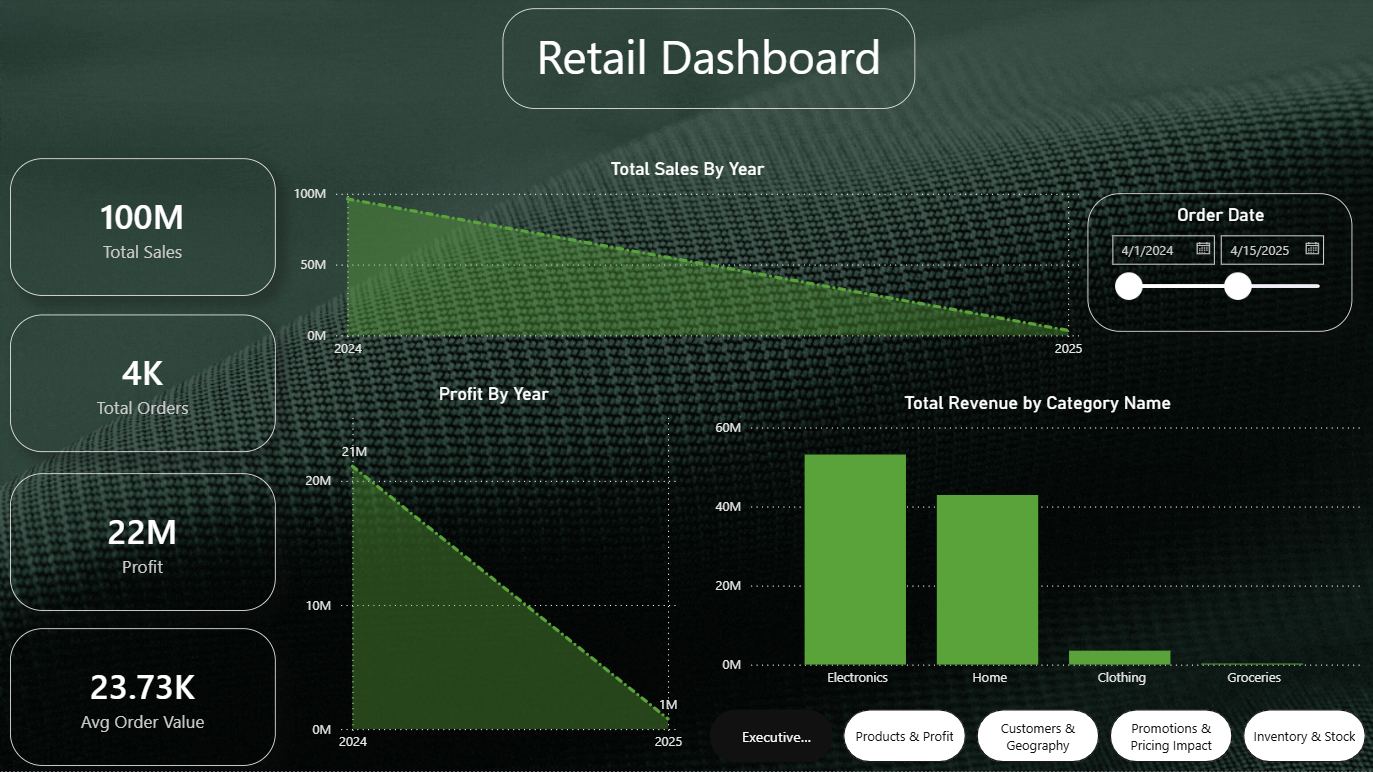

Layout of this report page (visuals, bound fields, positions):
{"tool":"powerbi","page":{"name":"Executive Overview","canvas":[1280,720],"ordinal":0},"visuals":[{"type":"cardVisual","fields":{"Data":["Measure Table.Total Sales"]},"box":[9.2,150,247,128.3],"z":0},{"type":"cardVisual","fields":{"Data":["Measure Table.Total Orders"]},"box":[9.2,295.8,247,128.3],"z":1000},{"type":"cardVisual","fields":{"Data":["Measure Table.Profit"]},"box":[9.2,442.5,247,128.3],"z":2000},{"type":"cardVisual","fields":{"Data":["Measure Table.Avg Order Value"]},"box":[9.2,587.5,247,128],"z":3000},{"type":"lineChart","title":"Total Sales By Year","fields":{"Category":["Orders.order_date.Variation.Date Hierarchy.Year","Orders.order_date.Variation.Date Hierarchy.Quarter","Orders.order_date.Variation.Date Hierarchy.Month","Orders.order_date.Variation.Date Hierarchy.Day"],"Y":["Measure Table.Total Sales"]},"box":[267.4,150.1,744.4,194.9],"z":4000},{"type":"lineChart","title":"Profit By Year","fields":{"Category":["Orders.order_date.Variation.Date Hierarchy.Year","Orders.order_date.Variation.Date Hierarchy.Quarter","Orders.order_date.Variation.Date Hierarchy.Month","Orders.order_date.Variation.Date Hierarchy.Day"],"Y":["Measure Table.Profit"]},"box":[279.5,359.7,360.5,351.9],"z":5000},{"type":"clusteredColumnChart","title":"Total Revenue by Category Name","fields":{"Category":["Categories.category_name"],"Y":["Measure Table.Total Revenue"]},"box":[660.7,367.4,609.8,283.8],"z":6000},{"type":"slicer","title":"Order Date","fields":{"Values":["Orders.order_date"]},"box":[1011.8,182.9,246.7,128.5],"z":7000},{"type":"pageNavigator","box":[660.8,662.5,610,49.2],"z":8000},{"type":"textbox","box":[468,10,384.2,93.3],"z":9000}]}

Visuals, with their boxes in screenshot pixels (x1, y1, x2, y2), scaled from the page's 1280x720 canvas onto the 1373x772 screenshot:
cardVisual - Measure Table.Total Sales: x1=10, y1=161, x2=275, y2=298
cardVisual - Measure Table.Total Orders: x1=10, y1=317, x2=275, y2=455
cardVisual - Measure Table.Profit: x1=10, y1=474, x2=275, y2=612
cardVisual - Measure Table.Avg Order Value: x1=10, y1=630, x2=275, y2=767
"Total Sales By Year" lineChart: x1=287, y1=161, x2=1085, y2=370
"Profit By Year" lineChart: x1=300, y1=386, x2=686, y2=763
"Total Revenue by Category Name" clusteredColumnChart: x1=709, y1=394, x2=1363, y2=698
"Order Date" slicer: x1=1085, y1=196, x2=1350, y2=334
pageNavigator: x1=709, y1=710, x2=1363, y2=763
textbox: x1=502, y1=11, x2=914, y2=111
